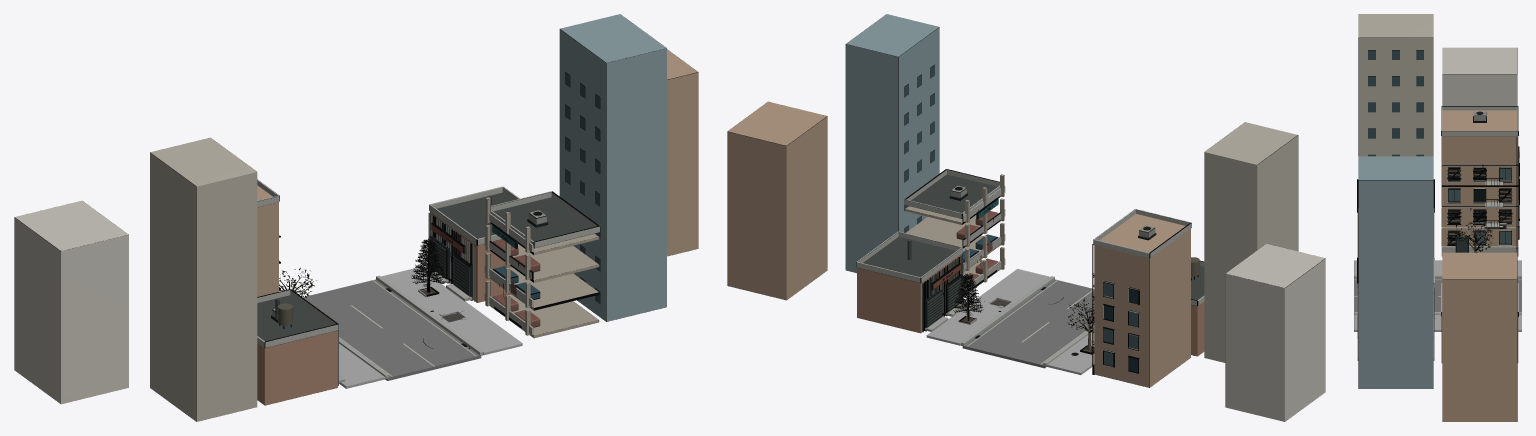
File: city_hd_15.glb
3 renders of one model, left to right at view 1: azimuth 30°, elevation 25°; view 2: azimuth 150°, elevation 25°; view 3: azimuth 270°, elevation 25°, orthographic. The views are drawn at different scales.
Parts seen in each view (by area): view 1: Apartment entrance door, CITY_PBR_asphalt, CITY_PBR_pavement, CITY_curb, CITY_car_paint; view 2: Apartment entrance door, CITY_PBR_asphalt, CITY_PBR_pavement, CITY_curb; view 3: Apartment entrance door, CITY_PBR_pavement, CITY_PBR_asphalt.
Part boxes in pixels (box(x1,y1,x2,y2)): Apartment entrance door: box(14, 14, 698, 421); CITY_PBR_asphalt: box(303, 279, 481, 380); CITY_PBR_pavement: box(339, 268, 522, 388); CITY_curb: box(339, 275, 483, 378); CITY_car_paint: box(492, 239, 540, 327); Apartment entrance door: box(727, 14, 1325, 421); CITY_PBR_asphalt: box(962, 279, 1094, 368); CITY_PBR_pavement: box(926, 269, 1094, 374); CITY_curb: box(961, 276, 1094, 366); Apartment entrance door: box(1357, 14, 1519, 421); CITY_PBR_pavement: box(1354, 260, 1521, 331); CITY_PBR_asphalt: box(1354, 278, 1521, 311).
Size of the model in its own units: 56.65 by 22.26 by 16.
Materials: 9 (1 with a texture image).
